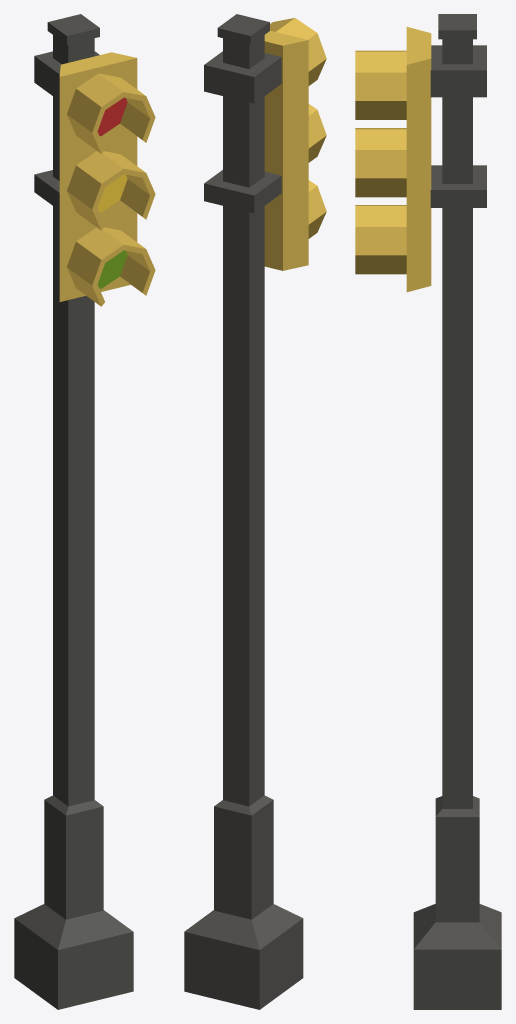
File: Traffic_Light_1.fbx
3 views of the same model, side by side, from view 1: azimuth 30°, elevation 25°; view 2: azimuth 150°, elevation 25°; view 3: azimuth 270°, elevation 25° (orthographic).
Parts seen in each view (by area): view 1: Traffic_Light_1; view 2: Traffic_Light_1; view 3: Traffic_Light_1.
Boxes of the visible parts, bbox=[...] form: Traffic_Light_1: bbox=[14, 14, 155, 1009]; Traffic_Light_1: bbox=[184, 14, 326, 1009]; Traffic_Light_1: bbox=[355, 14, 501, 1009].
Bounding box in the file's own units: 0.6872 × 8.1 × 1.11.
Materials: 1 (1 with a texture image).
